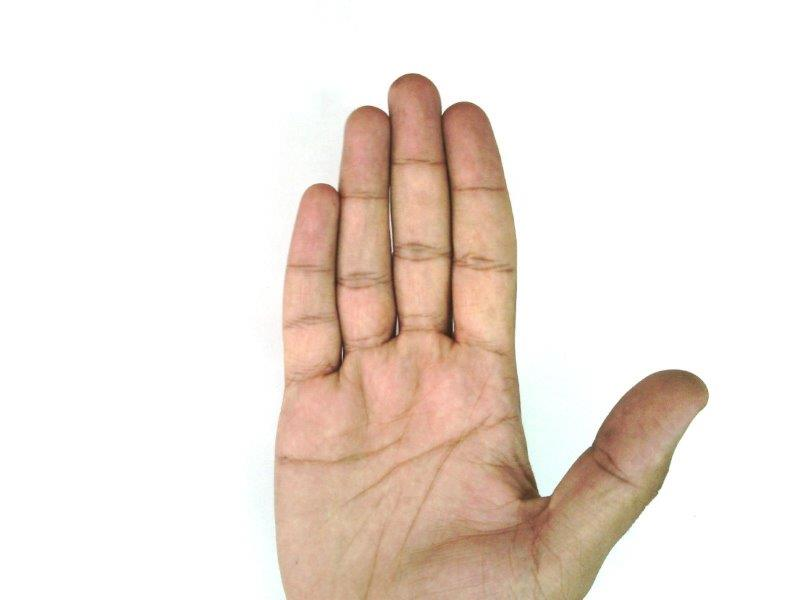hand: (275, 74, 710, 600)
